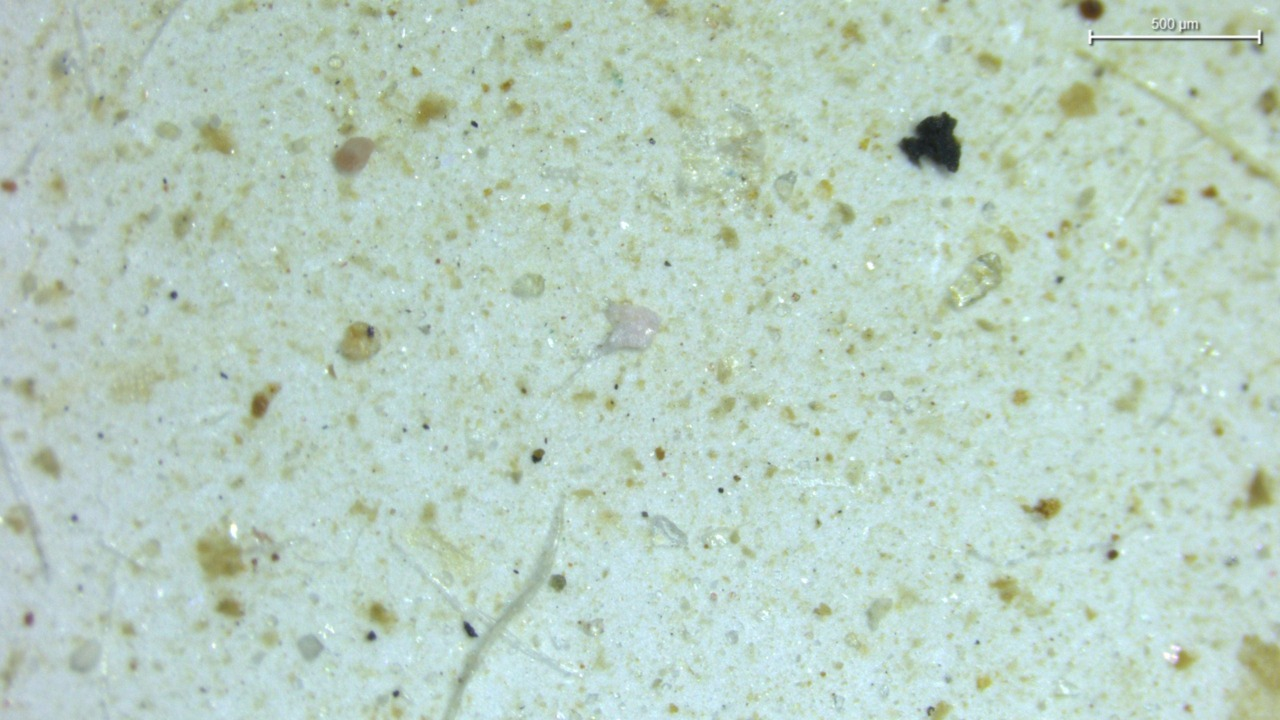microplastic_fragment: (599, 303, 660, 354), (332, 137, 374, 174), (510, 273, 545, 299)
